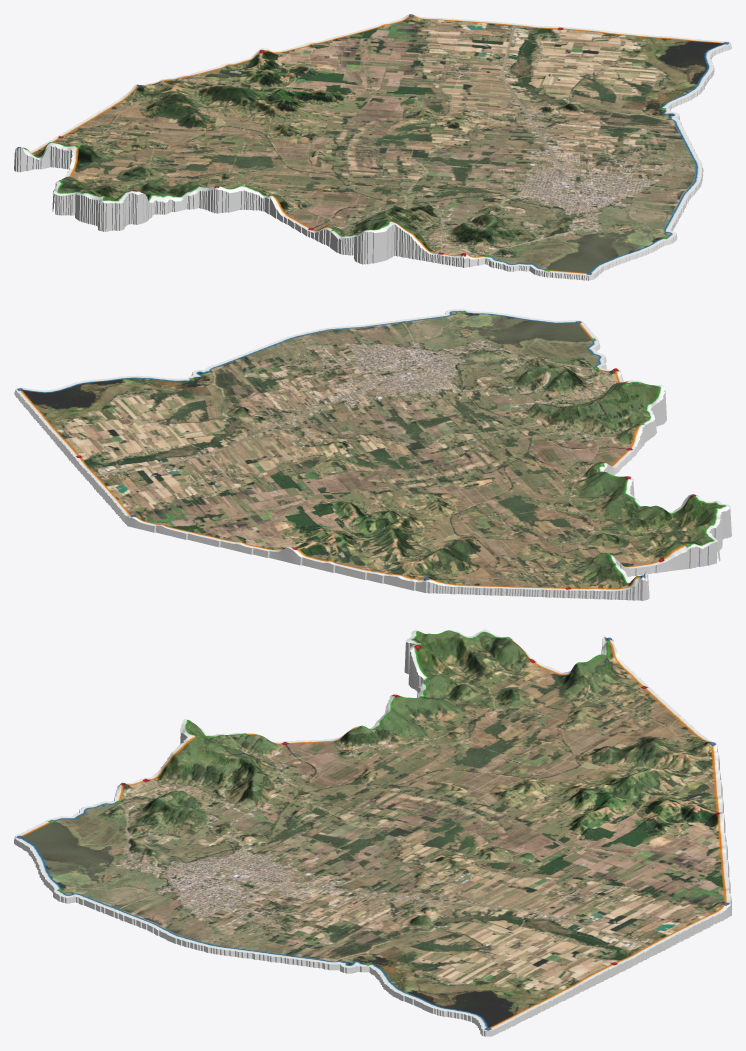
3 renders of one model, top to bottom at view 1: azimuth 30°, elevation 25°; view 2: azimuth 150°, elevation 25°; view 3: azimuth 270°, elevation 25°, orthographic. The views are drawn at different scales.
Size of the model in its own units: 1 by 0.0448 by 0.7901.
1 material, 1 textured.
